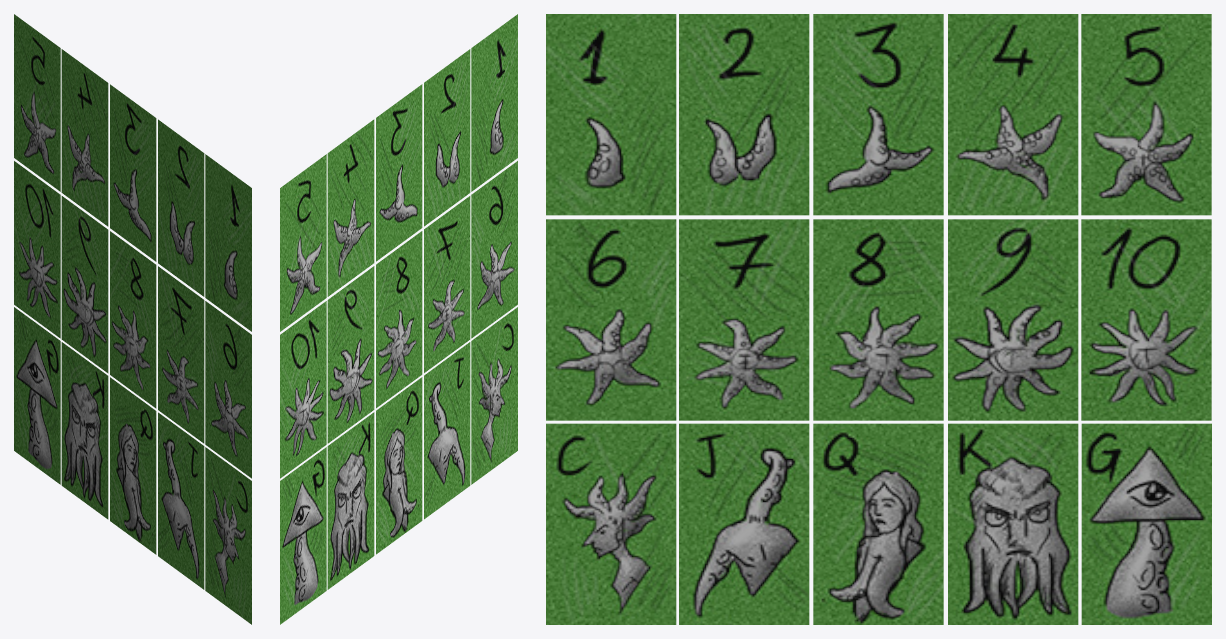
The model's file is cardstofind.fbx.
3 renders of one model, left to right at view 1: azimuth 30°, elevation 25°; view 2: azimuth 150°, elevation 25°; view 3: azimuth 270°, elevation 25°, orthographic. The views are drawn at different scales.
Parts seen in each view (by area): view 1: pasted__carte15, pasted__carte4, pasted__carte7, pasted__carte12, pasted__carte10, pasted__carte13, pasted__carte11, pasted__carte9, pasted__carte8, pasted__carte6, pasted__carte5, pasted__carte3 (+3 smaller); view 2: pasted__carte15, pasted__carte7, pasted__carte4, pasted__carte16, pasted__carte13, pasted__carte10, pasted__carte8, pasted__carte6, pasted__carte3, pasted__carte1, pasted__carte12, pasted__carte11 (+3 smaller); view 3: pasted__carte13, pasted__carte10, pasted__carte9, pasted__carte8, pasted__carte7, pasted__carte6, pasted__carte5, pasted__carte3, pasted__carte16, pasted__carte15, pasted__carte12, pasted__carte11 (+3 smaller).
Part boxes in pixels (box(x1,y1,x2,y2)): pasted__carte15: box(61, 342, 108, 519); pasted__carte4: box(61, 49, 108, 226); pasted__carte7: box(61, 196, 108, 373); pasted__carte12: box(158, 412, 204, 589); pasted__carte10: box(205, 301, 251, 478); pasted__carte13: box(110, 377, 156, 554); pasted__carte11: box(205, 447, 251, 624); pasted__carte9: box(158, 266, 204, 443); pasted__carte8: box(110, 231, 156, 408); pasted__carte6: box(14, 161, 60, 338); pasted__carte5: box(14, 14, 60, 191); pasted__carte3: box(110, 84, 156, 261); pasted__carte15: box(327, 412, 374, 589); pasted__carte7: box(327, 266, 374, 443); pasted__carte4: box(327, 119, 374, 296); pasted__carte16: box(280, 447, 326, 624); pasted__carte13: box(376, 377, 422, 554); pasted__carte10: box(471, 161, 517, 338); pasted__carte8: box(376, 231, 422, 408); pasted__carte6: box(280, 301, 326, 478); pasted__carte3: box(376, 84, 422, 261); pasted__carte1: box(471, 14, 517, 191); pasted__carte12: box(424, 342, 470, 519); pasted__carte11: box(471, 307, 517, 484); pasted__carte13: box(813, 423, 943, 624); pasted__carte10: box(546, 219, 676, 420); pasted__carte9: box(679, 219, 809, 420); pasted__carte8: box(813, 219, 943, 420); pasted__carte7: box(948, 219, 1078, 420); pasted__carte6: box(1081, 219, 1211, 420); pasted__carte5: box(1081, 14, 1211, 215); pasted__carte3: box(813, 14, 943, 215); pasted__carte16: box(1081, 423, 1211, 624); pasted__carte15: box(948, 423, 1078, 624); pasted__carte12: box(679, 423, 809, 624); pasted__carte11: box(546, 423, 676, 624).
Bounding box in the file's own units: 0 × 34.72 × 34.28.
